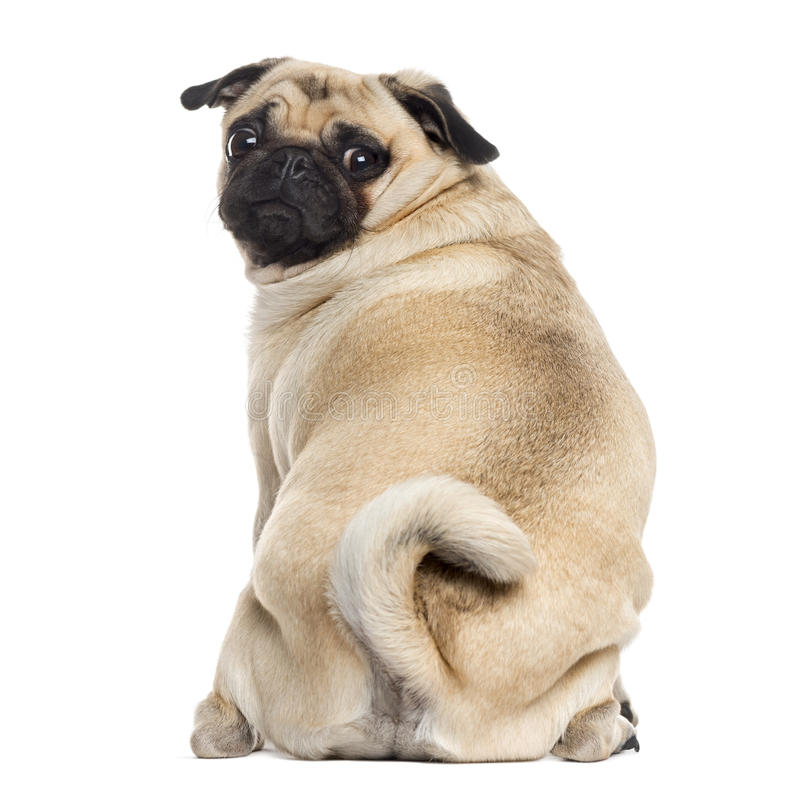dog: (184, 56, 656, 761)
